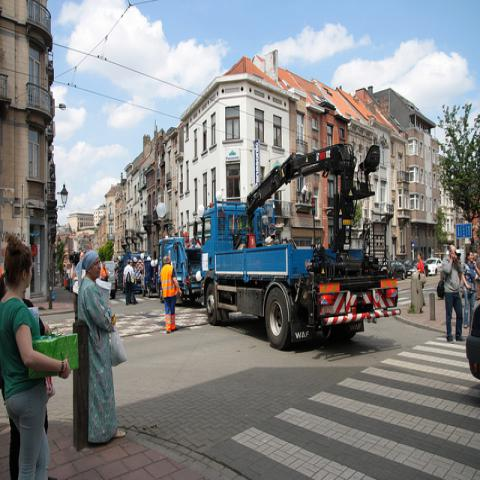car: (465, 300, 480, 380), (425, 256, 442, 276), (388, 262, 406, 280), (404, 260, 418, 279)
truck: (199, 199, 406, 353), (157, 236, 203, 306), (114, 253, 145, 290)
